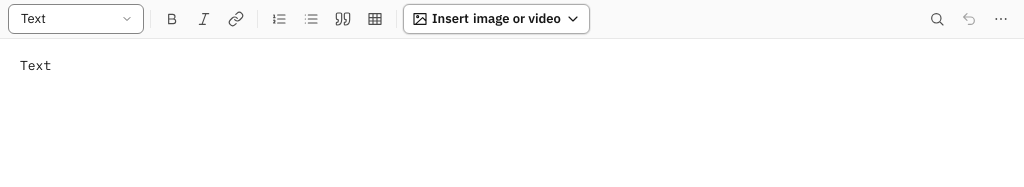
Test case: the toolbar is one Tab stop that arrows move, and it stays when the button that held it turns disabled
The less used tools are in More formatting, a menu at the end of the toolbar.
Click the button named "More formatting". click: (1001, 19)
box: [986,4,1016,34]
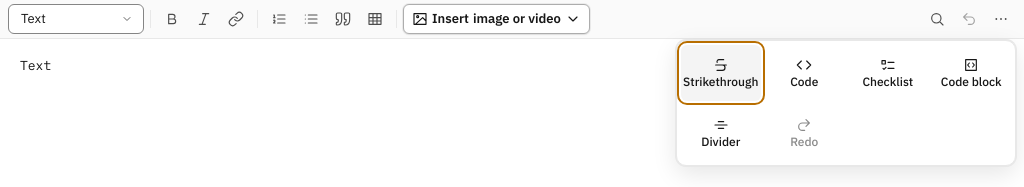
Click the menu item "Divider". click: (721, 133)
box: [681,105,760,161]
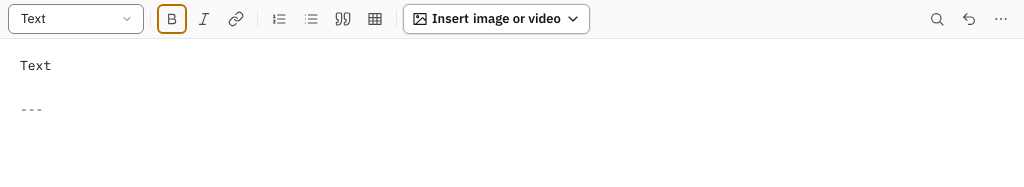
Expected: the button named "Undo" is enabled, [954,4,984,34]
Press ArrowRight in the button named "Bold", box [157,4,187,34]
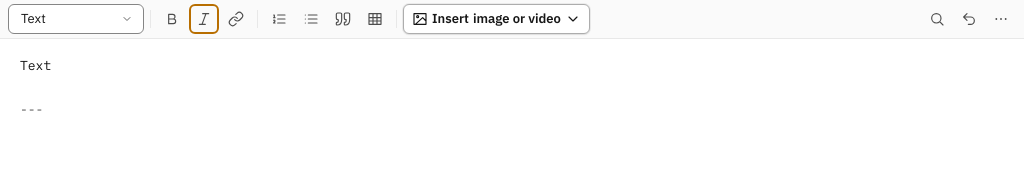
Press End in the button named "Italic (Ctrl+I)", box [189,4,219,34]
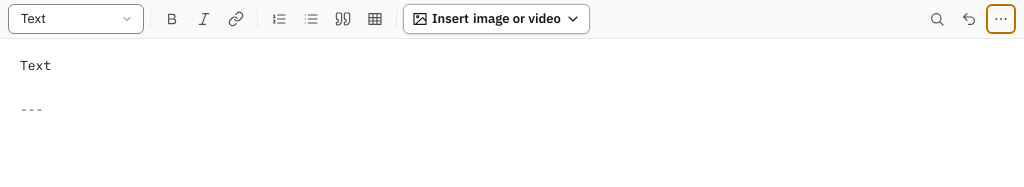
Press ArrowLeft in the button named "More formatting", box [986,4,1016,34]
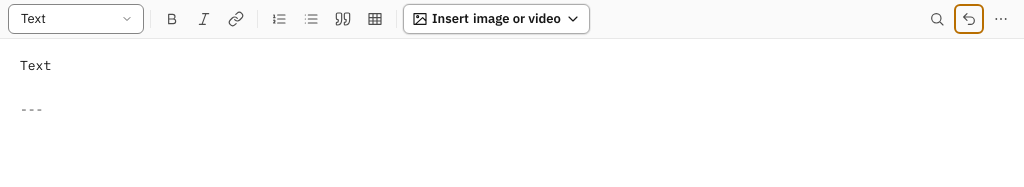
Click the button named "Undo". click: (969, 19)
box: [954,4,984,34]
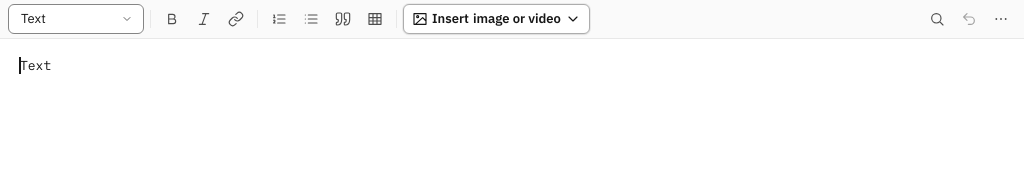
Expected: the button named "Undo" is disabled, [954,4,984,34]
